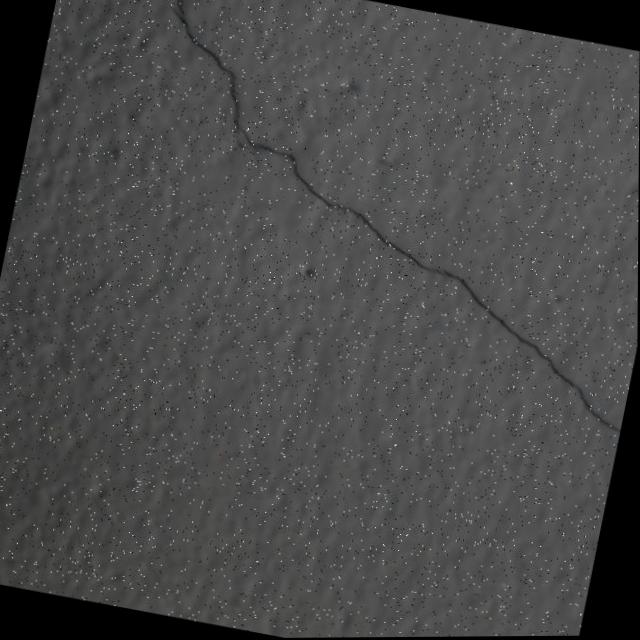Crack: (102, 0, 640, 450)
